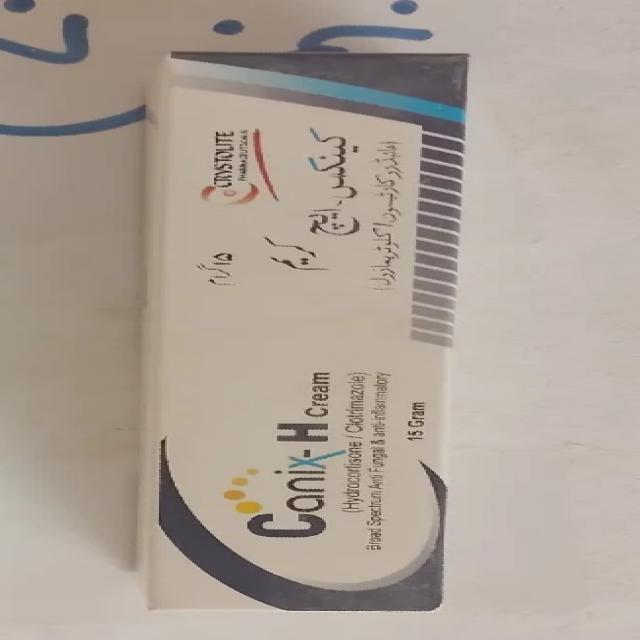drug-name: (238, 416, 346, 548)
